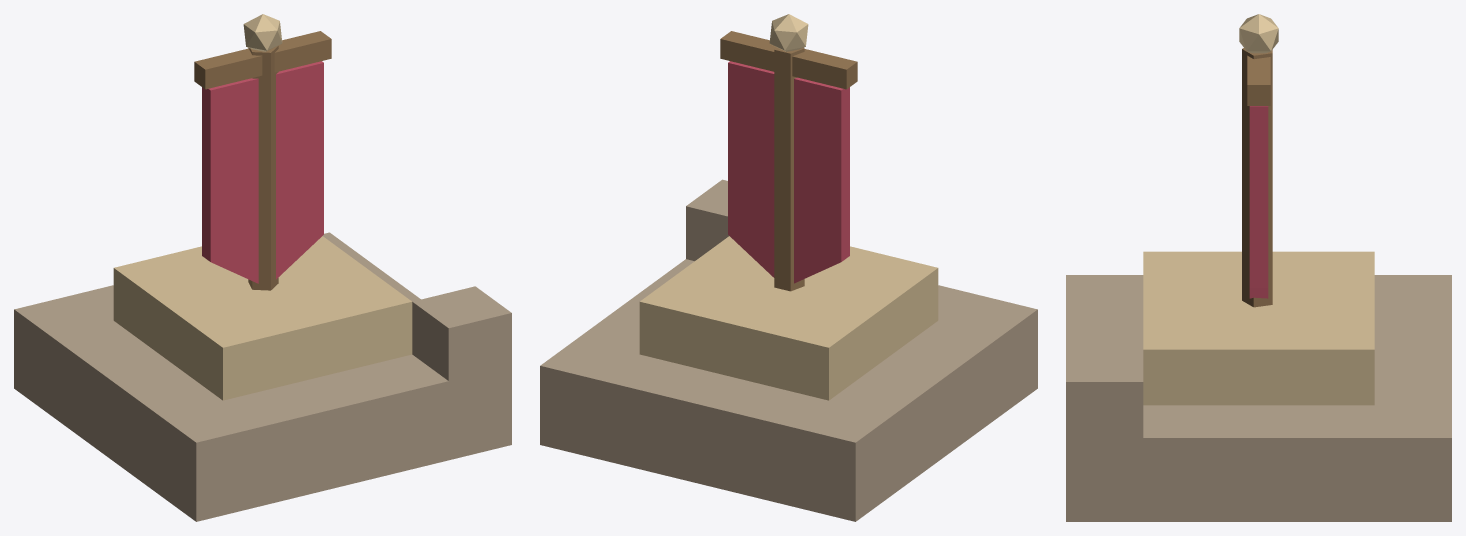
The model's file is medieval-landmark-s1.glb.
3 renders of one model, left to right at view 1: azimuth 30°, elevation 25°; view 2: azimuth 150°, elevation 25°; view 3: azimuth 270°, elevation 25°, orthographic. The views are drawn at different scales.
Visible parts, largest first — view 1: medieval-landmark-s1; view 2: medieval-landmark-s1; view 3: medieval-landmark-s1.
Part boxes in pixels (bbox=[...]): medieval-landmark-s1: bbox=[14, 14, 511, 521]; medieval-landmark-s1: bbox=[540, 14, 1037, 521]; medieval-landmark-s1: bbox=[1066, 14, 1451, 521].
Bounding box in the file's own units: 0.5 × 0.61 × 0.5.
